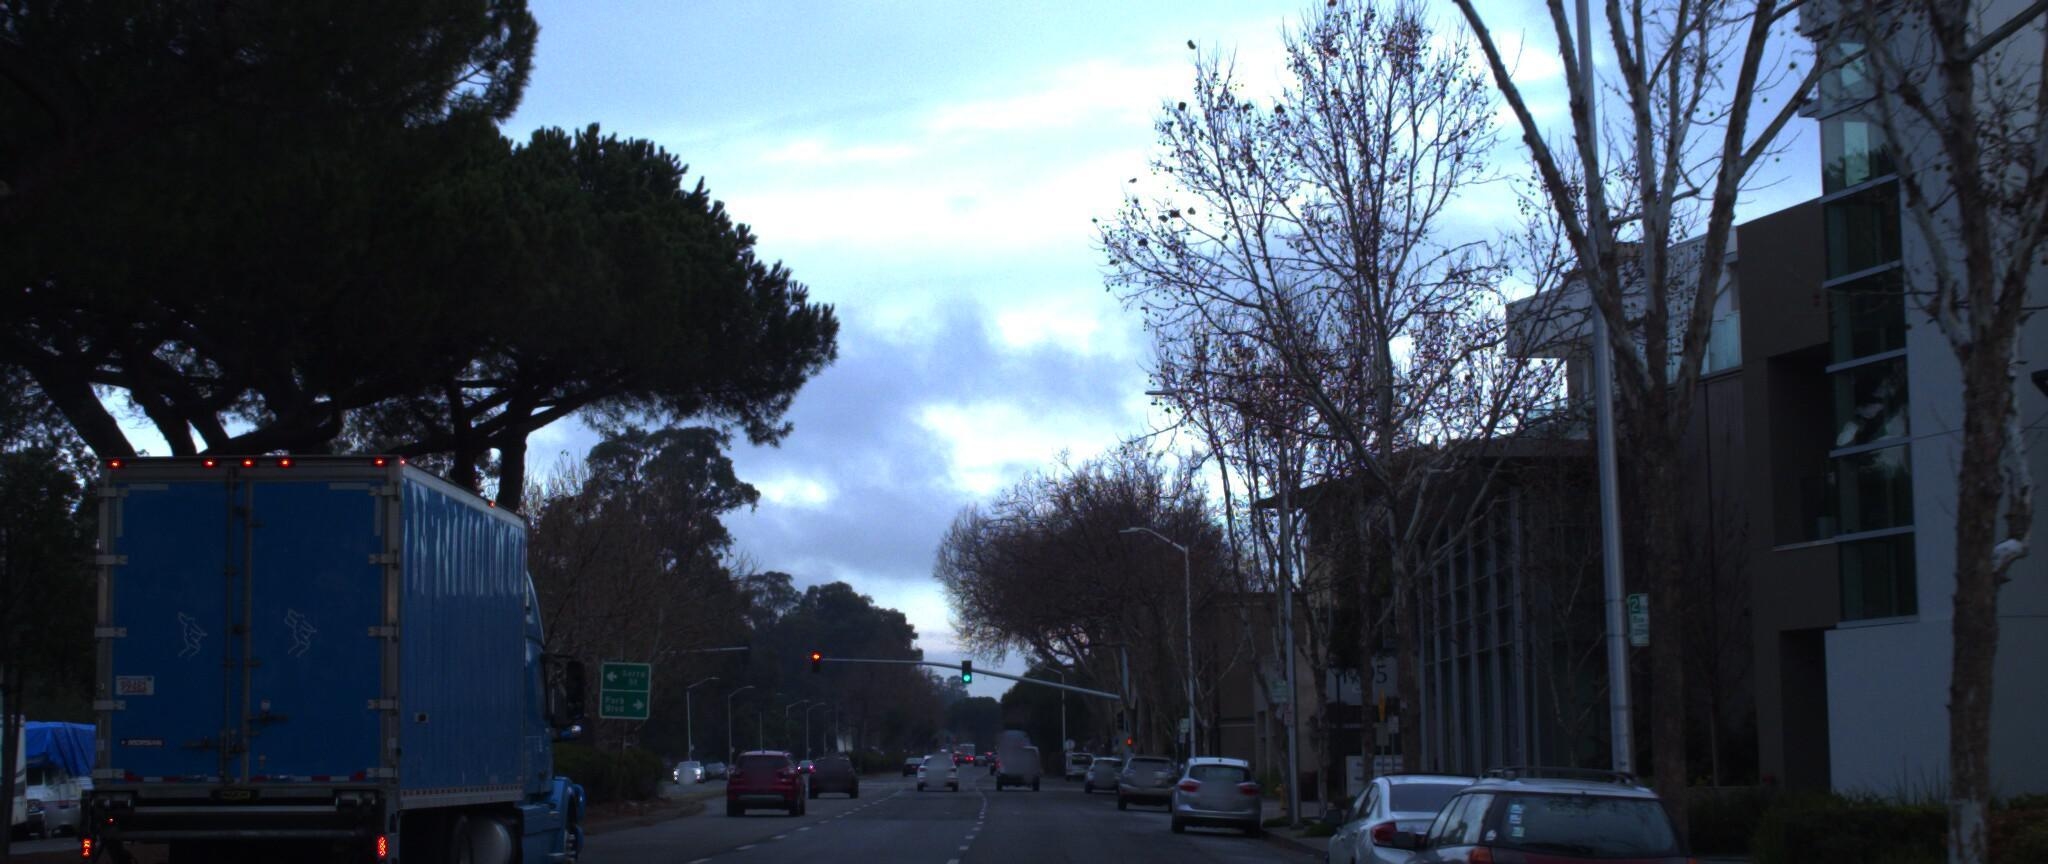car: (1384, 754, 1735, 864), (1305, 762, 1578, 864), (1172, 741, 1258, 827), (724, 744, 808, 812), (0, 765, 27, 850)
other_vehicle: (0, 703, 138, 857), (0, 675, 46, 854)
truck: (24, 418, 626, 864)
